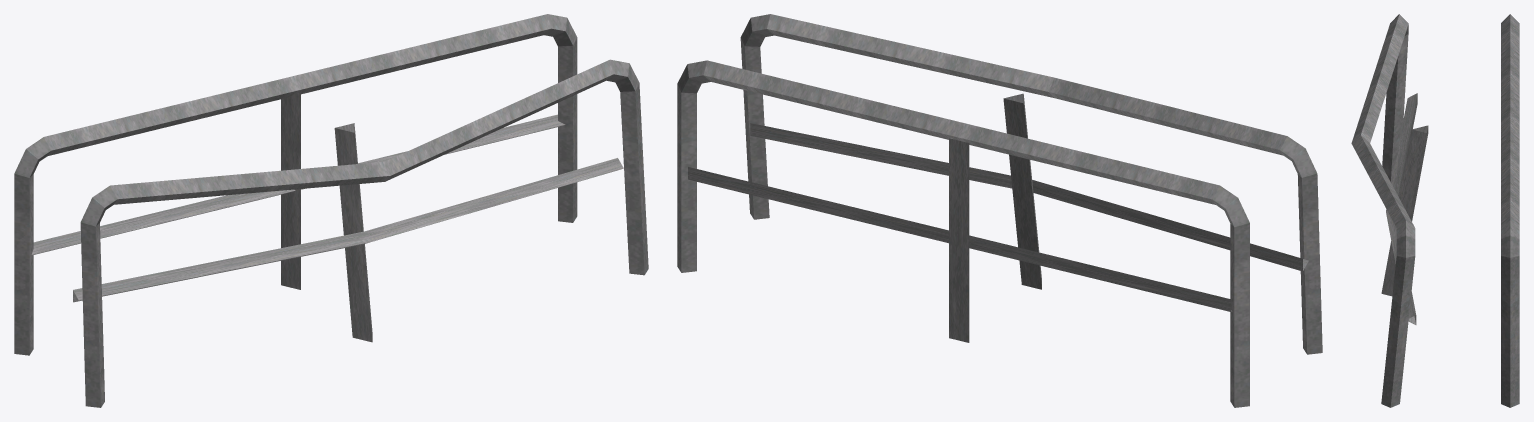
File: lhouse_barrier3.obj
The picture shows the model from 3 angles, left to right: view 1: azimuth 30°, elevation 25°; view 2: azimuth 150°, elevation 25°; view 3: azimuth 270°, elevation 25°; orthographic projection. The views are drawn at different scales.
Parts seen in each view (by area): view 1: lhouse_barrier3_dam, lhouse_barrier3_l0; view 2: lhouse_barrier3_l0, lhouse_barrier3_dam; view 3: lhouse_barrier3_dam, lhouse_barrier3_l0.
Boxes of the visible parts, bbox=[...] form: lhouse_barrier3_dam: bbox=[73, 59, 648, 407]; lhouse_barrier3_l0: bbox=[14, 14, 577, 355]; lhouse_barrier3_l0: bbox=[677, 60, 1249, 407]; lhouse_barrier3_dam: bbox=[740, 14, 1322, 354]; lhouse_barrier3_dam: bbox=[1351, 14, 1428, 407]; lhouse_barrier3_l0: bbox=[1501, 14, 1519, 407].
Bounding box in the file's own units: 3.21 × 1.15 × 0.9925.
2 materials, 2 textured.
